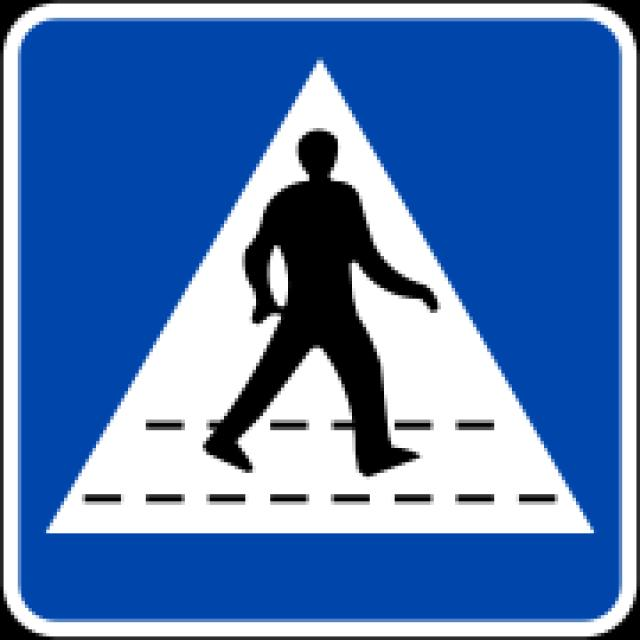Pedestrian crosswalk: (35, 43, 611, 558)
